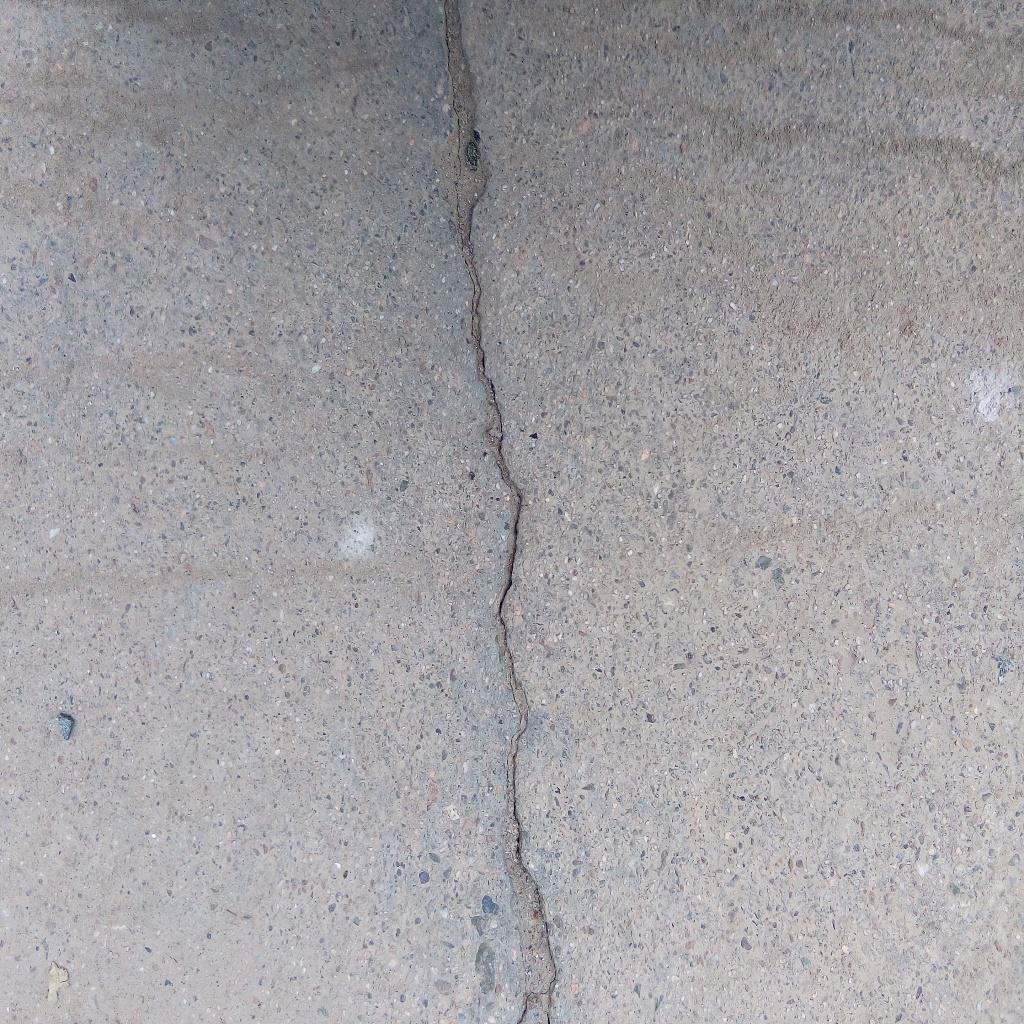Crack: (439, 1, 559, 1024)
